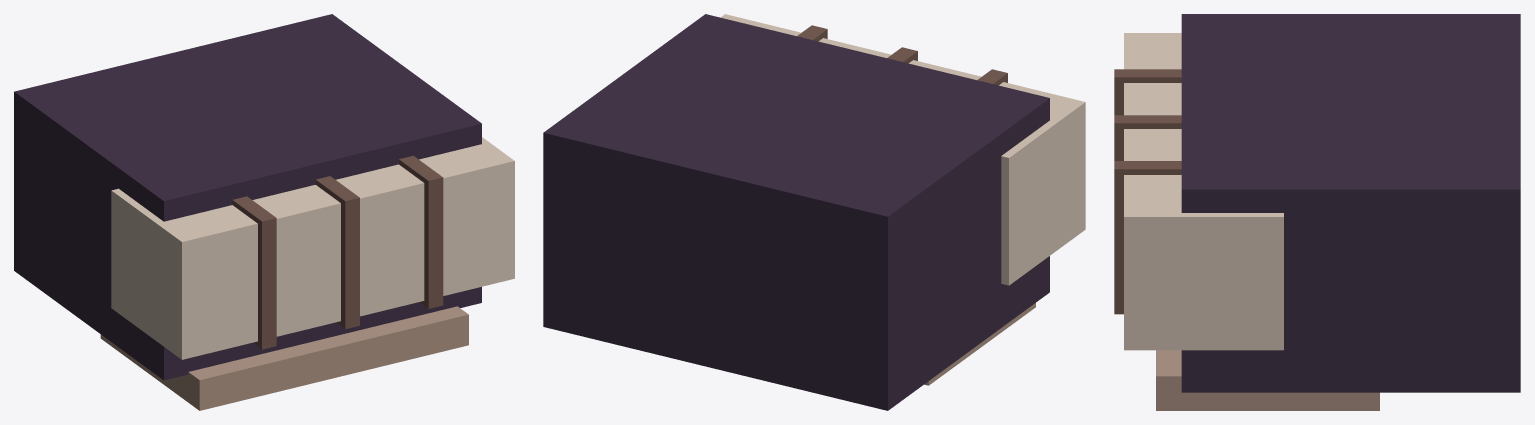
The model's file is inf_v2_brute_hand_r.fbx.
The picture shows the model from 3 angles, left to right: view 1: azimuth 30°, elevation 25°; view 2: azimuth 150°, elevation 25°; view 3: azimuth 270°, elevation 25°; orthographic projection. The views are drawn at different scales.
Parts seen in each view (by area): view 1: inf_v2_brute_hand_r; view 2: inf_v2_brute_hand_r; view 3: inf_v2_brute_hand_r.
Part boxes in pixels (x1=…): inf_v2_brute_hand_r: x1=14, y1=14, x2=514, y2=410; inf_v2_brute_hand_r: x1=543, y1=14, x2=1085, y2=410; inf_v2_brute_hand_r: x1=1114, y1=14, x2=1520, y2=410.
Bounding box in the file's own units: 136 × 81 × 127.
